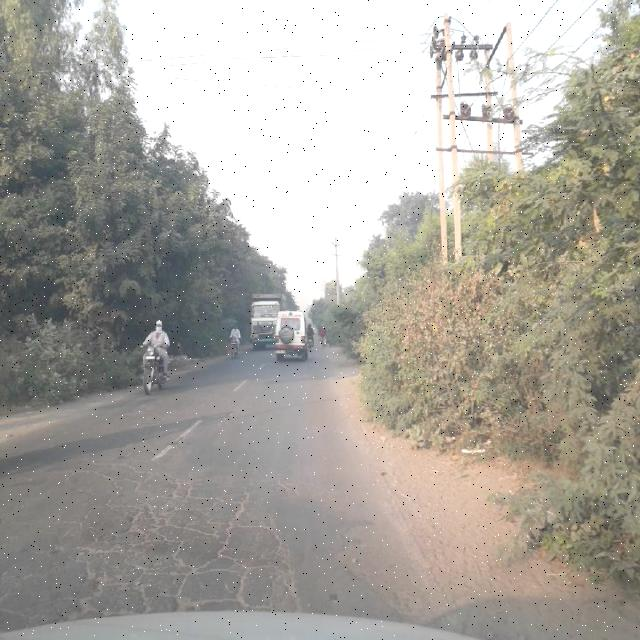D20: (22, 431, 305, 619)
